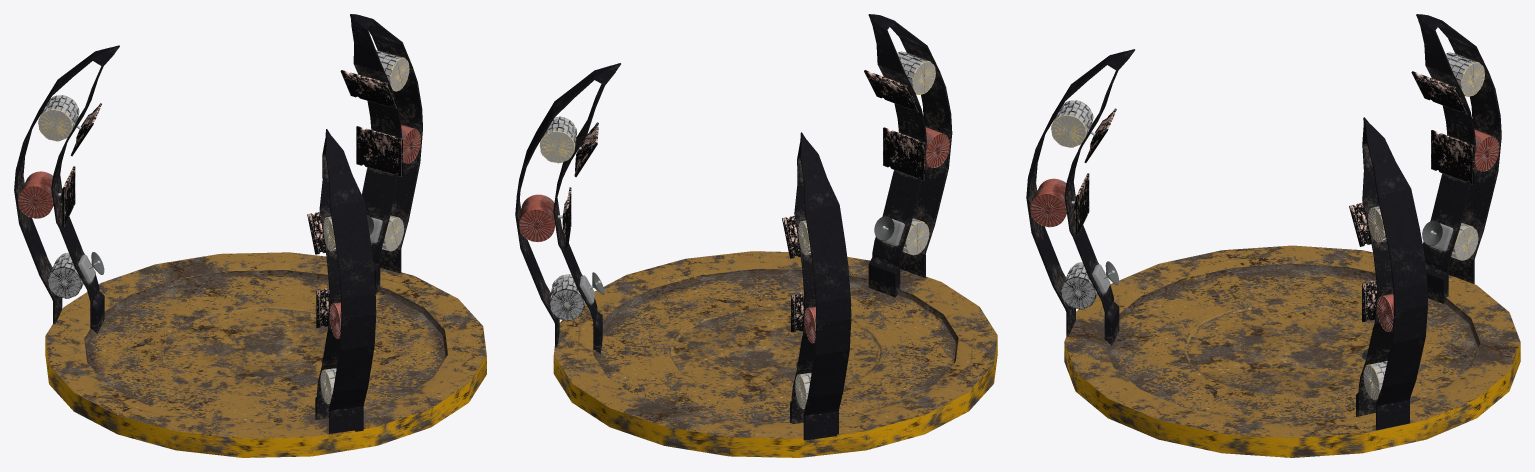
The model's file is reactor.glb.
3 views of the same model, side by side, from view 1: azimuth 30°, elevation 25°; view 2: azimuth 150°, elevation 25°; view 3: azimuth 270°, elevation 25° (orthographic). The views are drawn at different scales.
Parts seen in each view (by area): view 1: pCylinder1, pCylinder19; view 2: pCylinder1, pCylinder19; view 3: pCylinder1, pCylinder19.
Part boxes in pixels (bbox=[...]): pCylinder1: bbox=[45, 252, 486, 457]; pCylinder19: bbox=[14, 14, 422, 433]; pCylinder1: bbox=[553, 251, 997, 457]; pCylinder19: bbox=[515, 14, 952, 440]; pCylinder1: bbox=[1064, 245, 1520, 457]; pCylinder19: bbox=[1026, 14, 1501, 430].
Size of the model in its own units: 1.1 by 0.7786 by 1.15.
Materials: 9 (9 with a texture image).
